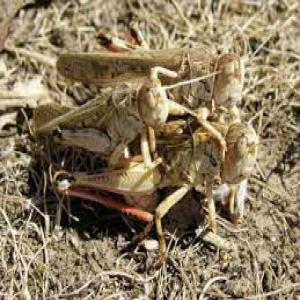locust: (31, 54, 166, 193)
